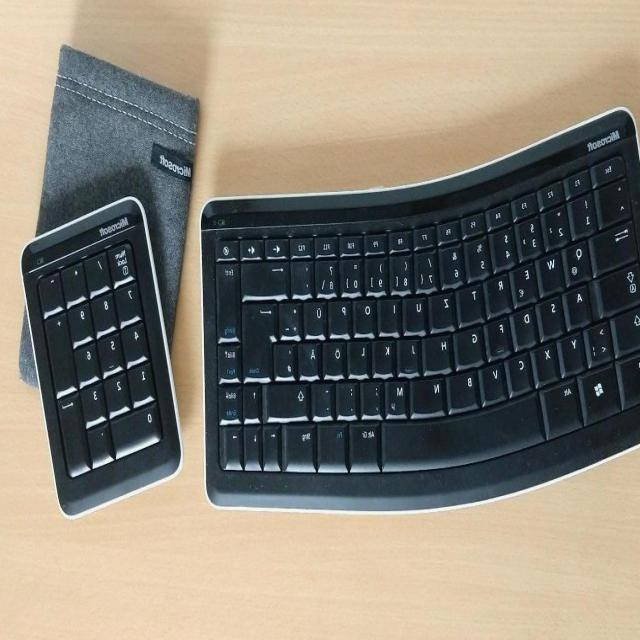0: (343, 253, 365, 293)
1: (572, 190, 600, 234)
2: (544, 201, 572, 245)
3: (518, 212, 546, 255)
4: (494, 223, 519, 265)
5: (468, 233, 494, 277)
6: (443, 241, 466, 283)
7: (418, 246, 440, 288)
8: (393, 250, 415, 290)
9: (368, 252, 390, 290)
a: (568, 281, 593, 324)
accent: (294, 256, 316, 294)
ae: (301, 337, 323, 375)
alt-left: (542, 376, 585, 436)
altgr-right: (352, 418, 383, 468)
b: (450, 368, 480, 408)
c: (508, 349, 536, 391)
caret: (598, 177, 634, 223)
comma: (365, 376, 386, 414)
d: (514, 303, 540, 345)
del: (244, 257, 290, 294)
e: (513, 259, 540, 303)
enter: (244, 298, 279, 378)
f: (488, 311, 512, 355)
g: (458, 322, 486, 364)
h: (426, 332, 454, 370)
hash: (276, 339, 298, 377)
i: (382, 293, 402, 331)
j: (402, 335, 423, 371)
k: (376, 335, 397, 372)
keyboard: (200, 103, 640, 509)
l: (351, 336, 372, 374)
less: (589, 316, 617, 364)
m: (389, 375, 410, 413)
minus: (315, 377, 336, 415)
n: (414, 375, 447, 413)
o: (357, 294, 378, 332)
oe: (326, 336, 348, 374)
p: (332, 295, 353, 333)
plus: (282, 297, 304, 335)
point: (340, 376, 361, 414)
q: (565, 236, 595, 282)
r: (487, 269, 514, 311)
s: (541, 291, 567, 335)
shift-left: (617, 303, 640, 351)
shift-lock: (596, 262, 640, 316)
shift-right: (267, 377, 310, 417)
space: (384, 394, 545, 472)
ss: (319, 255, 341, 292)
strg-left: (619, 347, 640, 406)
strg-right: (287, 428, 315, 466)
t: (459, 279, 485, 321)
tab: (592, 220, 640, 272)
u: (406, 292, 428, 330)
ue: (307, 295, 329, 335)
v: (483, 358, 509, 398)
w: (540, 248, 566, 291)
x: (536, 339, 562, 379)
y: (562, 329, 588, 371)
z: (432, 287, 456, 327)
